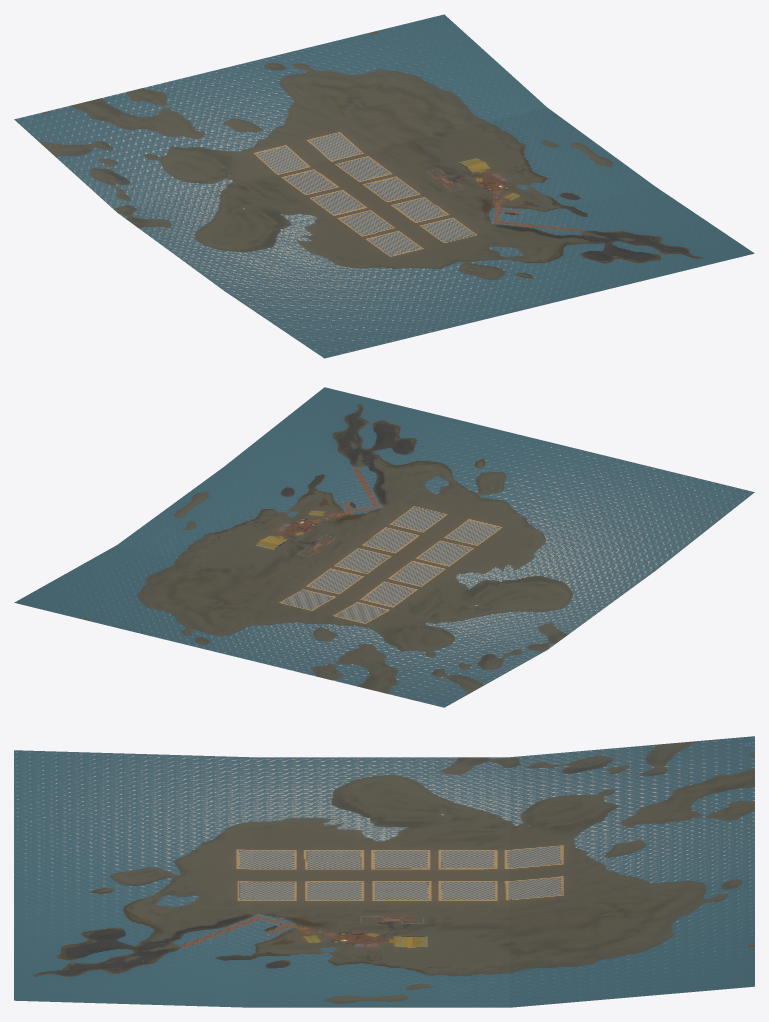
The model's file is island-map.glb.
The picture shows the model from 3 angles, top to bottom: view 1: azimuth 30°, elevation 25°; view 2: azimuth 150°, elevation 25°; view 3: azimuth 270°, elevation 25°; orthographic projection. The views are drawn at different scales.
Visible parts, largest first — view 1: Plane; view 2: Plane; view 3: Plane.
Part boxes in pixels (box(x1,y1,x2,y2)): Plane: box(14, 14, 754, 358); Plane: box(14, 387, 754, 707); Plane: box(14, 736, 754, 1007).
Bounding box in the file's own units: 0.8 × 0.0314 × 1.
1 material, 1 textured.
